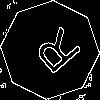R: (25, 25, 84, 83)
